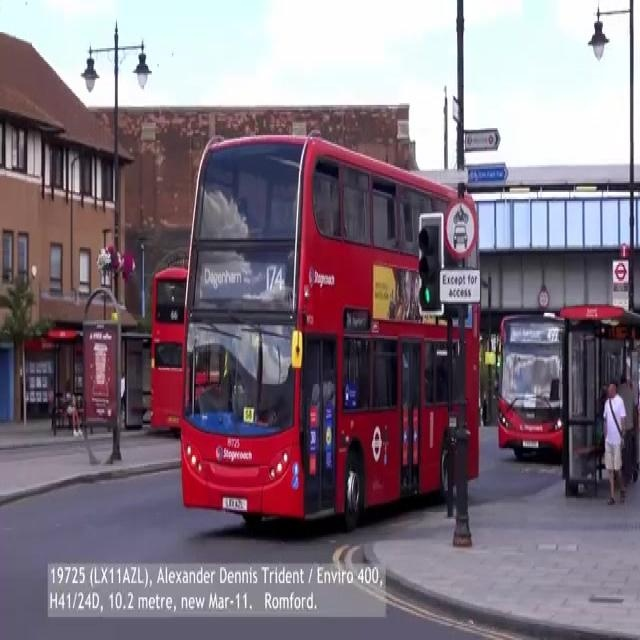Bus: (180, 134, 480, 532), (497, 306, 577, 460), (150, 258, 184, 439)
